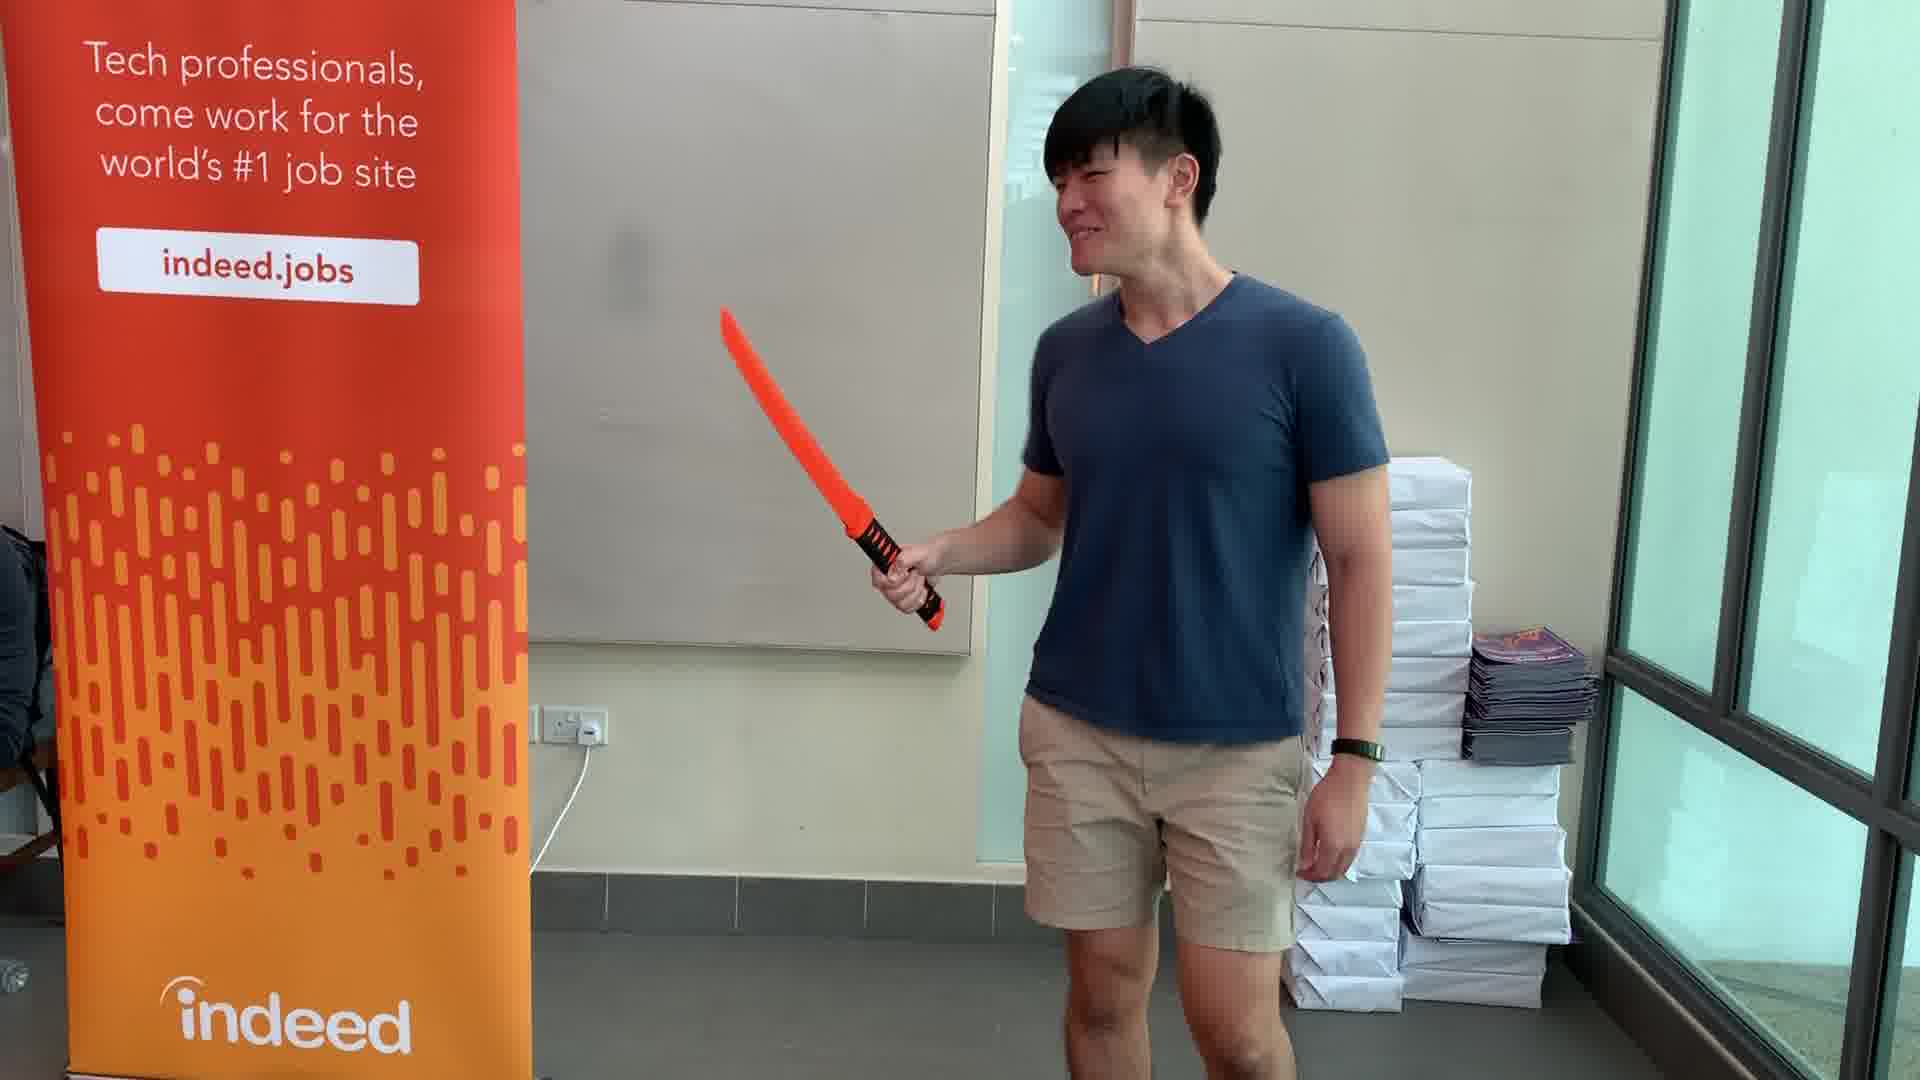knife: (709, 298, 959, 637)
